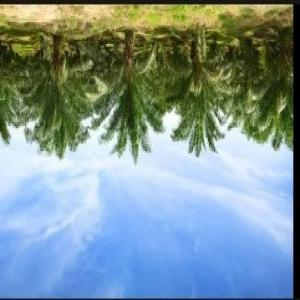palm tree: (91, 26, 166, 163)
